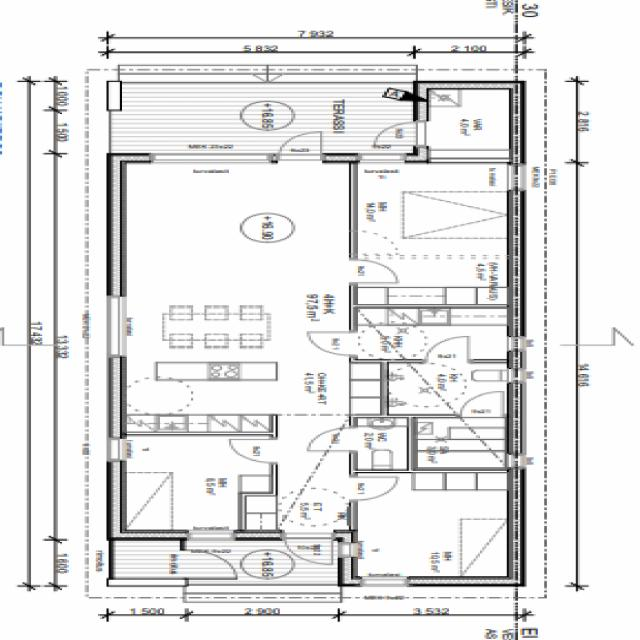door: (179, 551, 234, 578), (286, 534, 331, 566), (279, 130, 321, 160), (306, 428, 358, 452), (372, 122, 425, 145), (306, 332, 355, 356), (461, 392, 504, 419), (228, 440, 276, 464), (349, 478, 399, 501), (426, 337, 468, 363), (349, 260, 396, 283)
